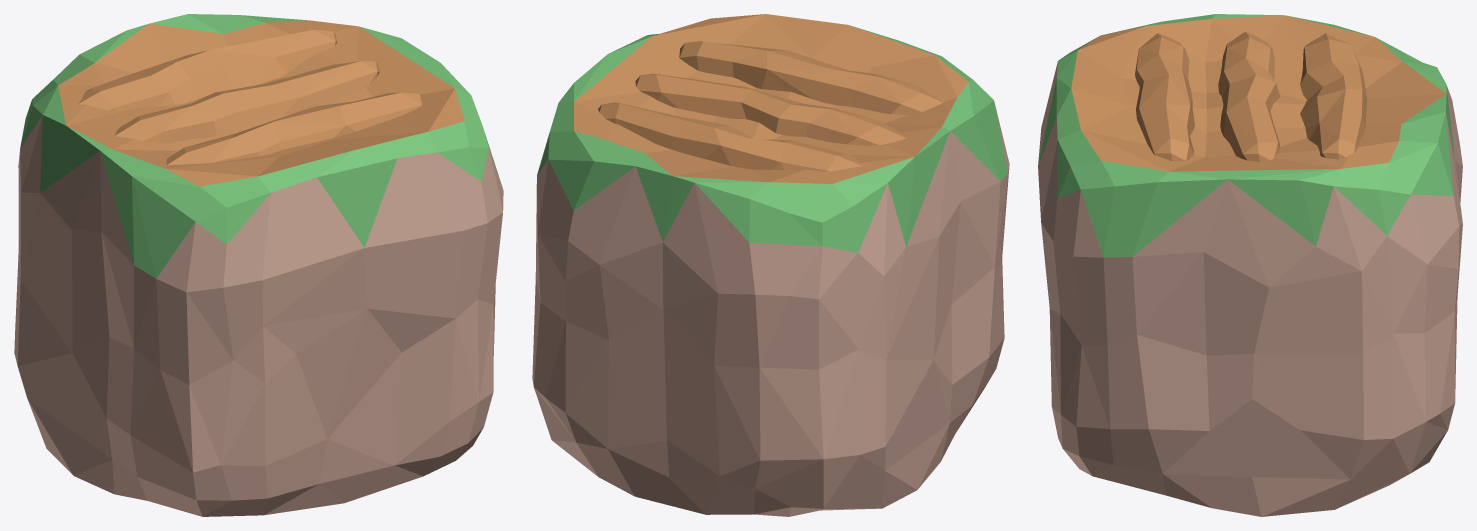
The model's file is Plowed.fbx.
The picture shows the model from 3 angles, left to right: view 1: azimuth 30°, elevation 25°; view 2: azimuth 150°, elevation 25°; view 3: azimuth 270°, elevation 25°; orthographic projection. The views are drawn at different scales.
Parts seen in each view (by area): view 1: Plowed; view 2: Plowed; view 3: Plowed.
Part boxes in pixels (left/top/right/bottom): Plowed: left=14, top=14, right=503, bottom=516; Plowed: left=532, top=14, right=1009, bottom=516; Plowed: left=1038, top=14, right=1462, bottom=516.
Size of the model in its own units: 107 by 103 by 111.
